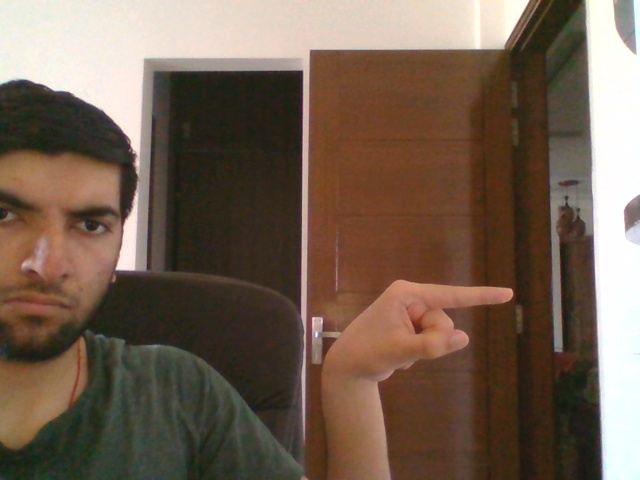LetterG: (322, 278, 515, 384)
